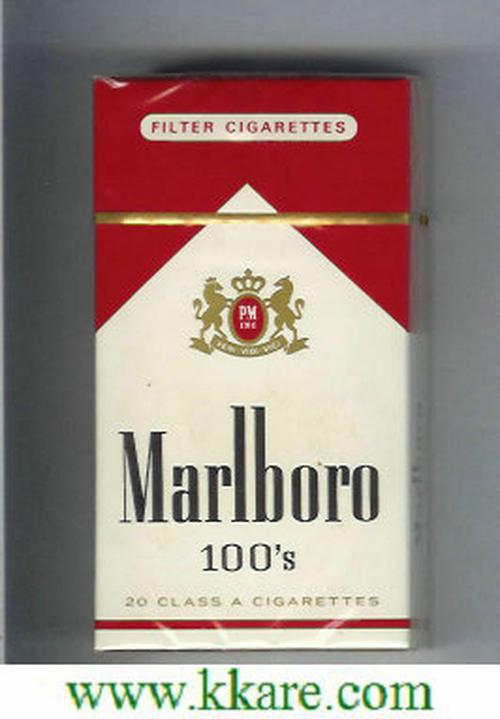marlboro: (93, 82, 405, 650)
